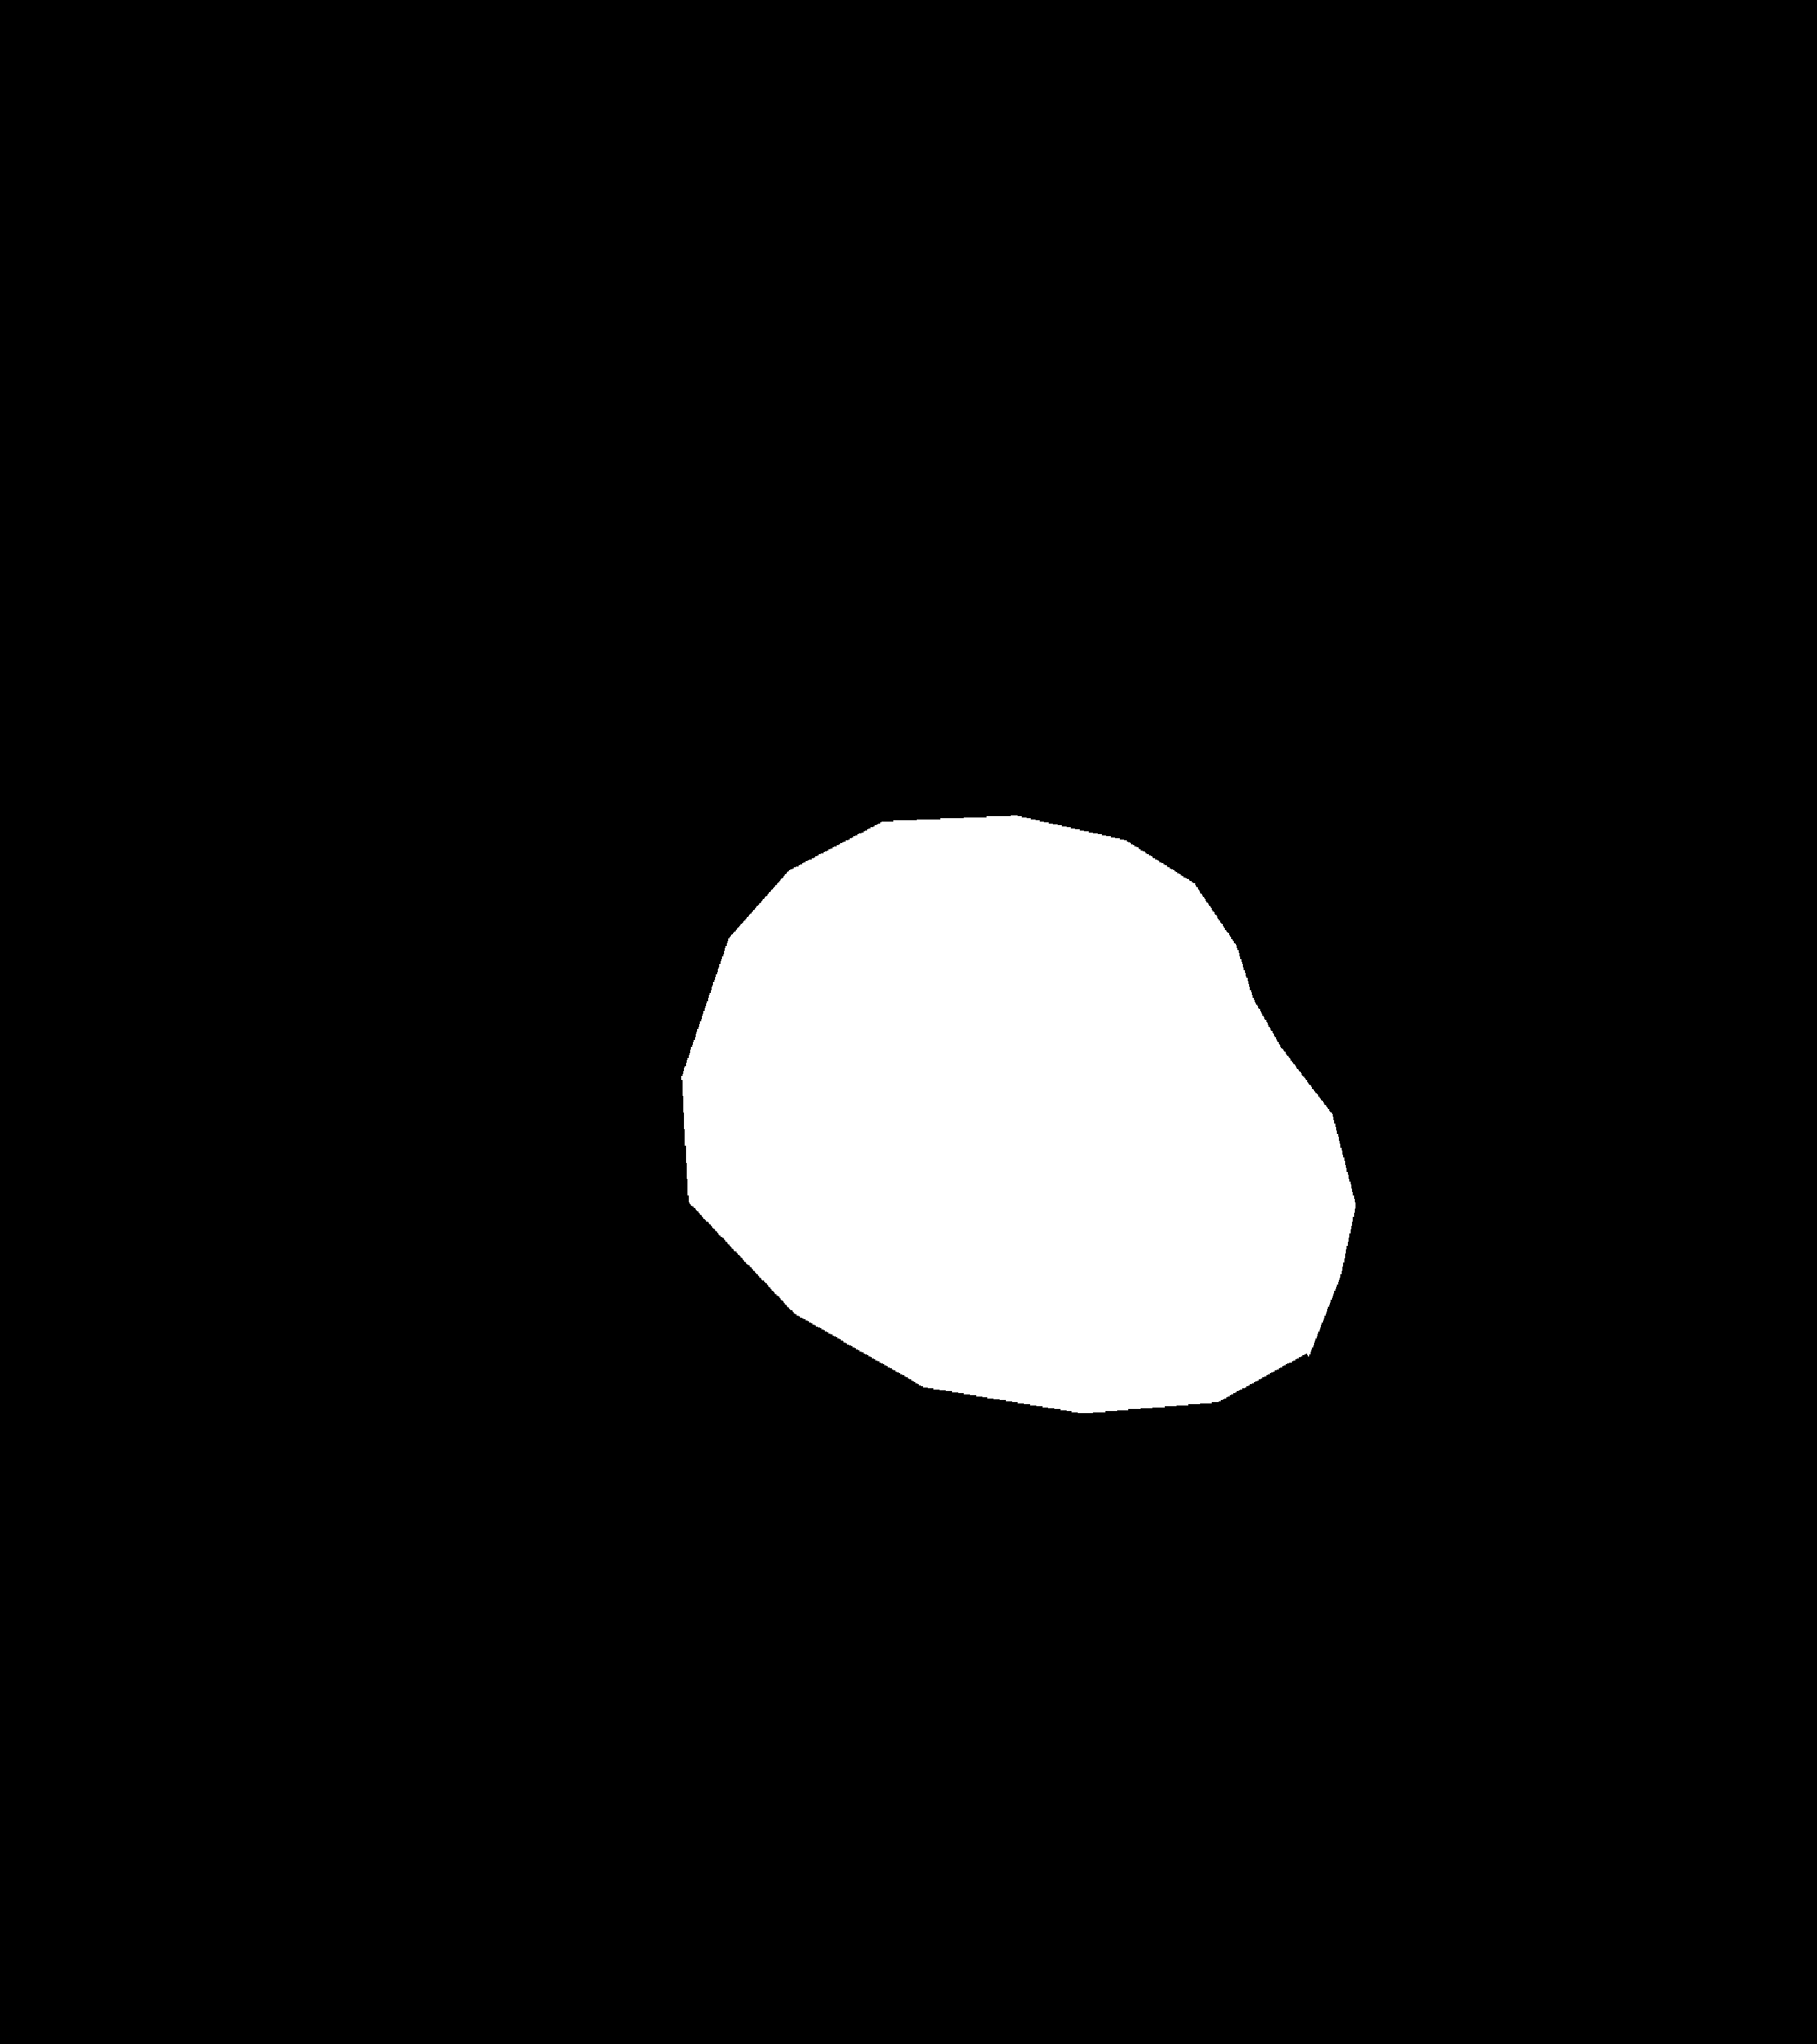heart: (716, 921, 1350, 1453)
left_lung: (232, 265, 833, 1547)
right_lung: (1065, 267, 1596, 1484)
